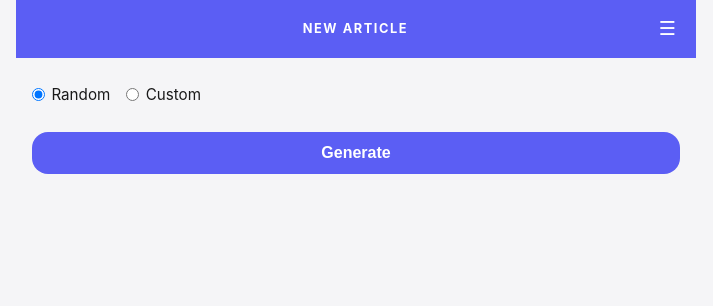
Test case: NewArticlePage Generate button state › Generate button is enabled in Custom mode when topic is non-empty
This screenshot has width=713, height=306.
Step 1. Click the radio button labelled "Custom" → (133,95), box [126,88,139,101]
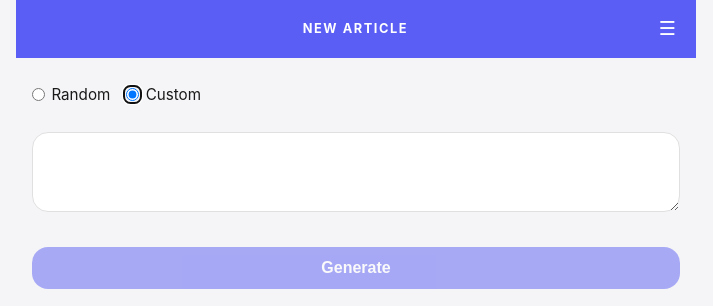
Step 2. Type "AI trends" into the text box named "Custom topic" → (356,172), box [32,132,680,212]
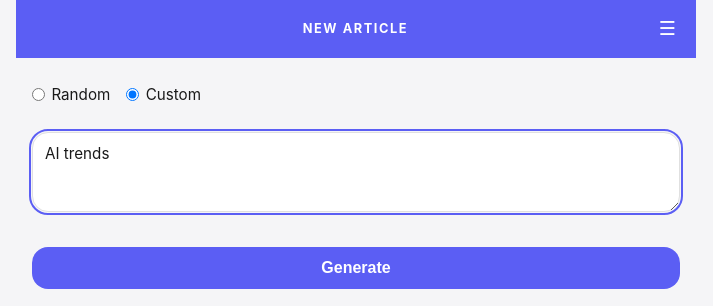
Expected: the button "Generate" is enabled, [32,247,680,289]
